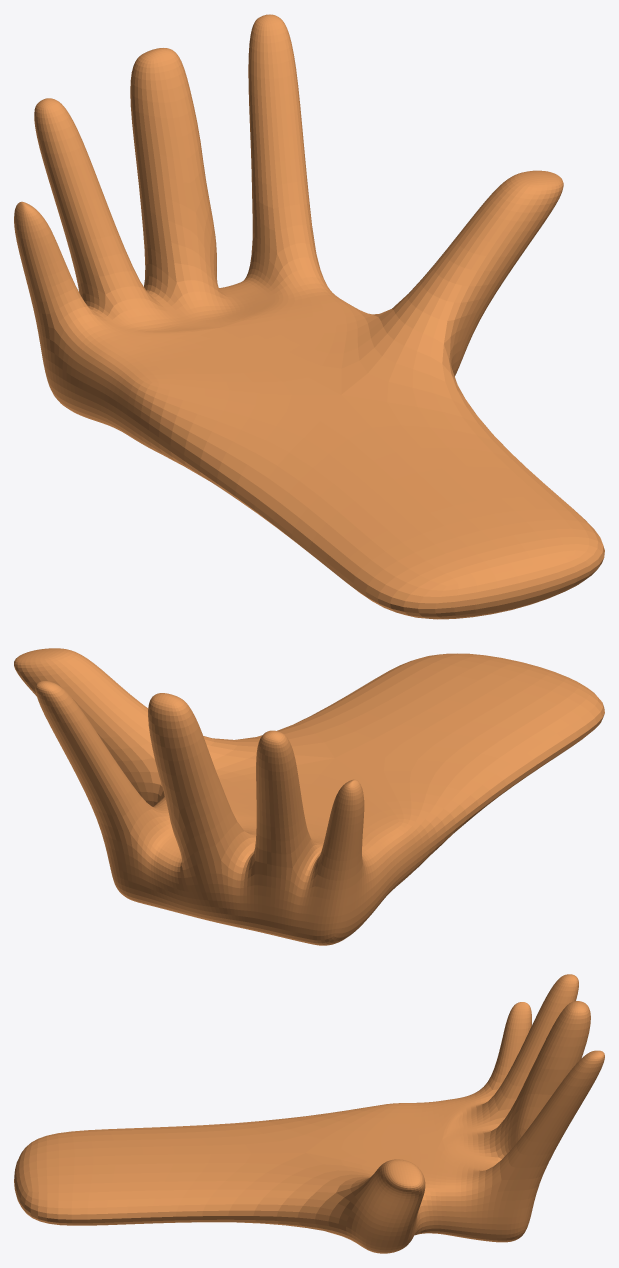
File: Fists.fbx
3 renders of one model, top to bottom at view 1: azimuth 30°, elevation 25°; view 2: azimuth 150°, elevation 25°; view 3: azimuth 270°, elevation 25°, orthographic. The views are drawn at different scales.
Parts seen in each view (by area): view 1: Cube; view 2: Cube; view 3: Cube.
Boxes of the visible parts, box(x1,y1,x2,y2) form: Cube: box(14, 14, 604, 619); Cube: box(14, 648, 604, 945); Cube: box(14, 974, 604, 1253).
Size of the model in its own units: 1139 by 670 by 1710.
